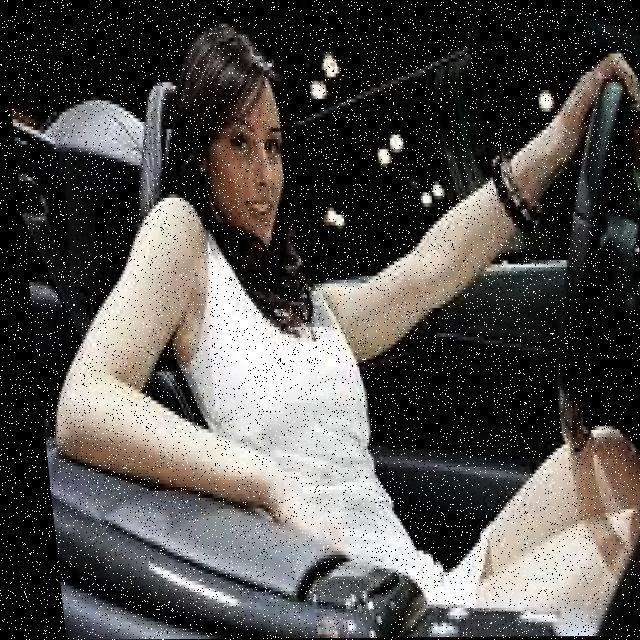noSeatbelt: (144, 188, 393, 586)
